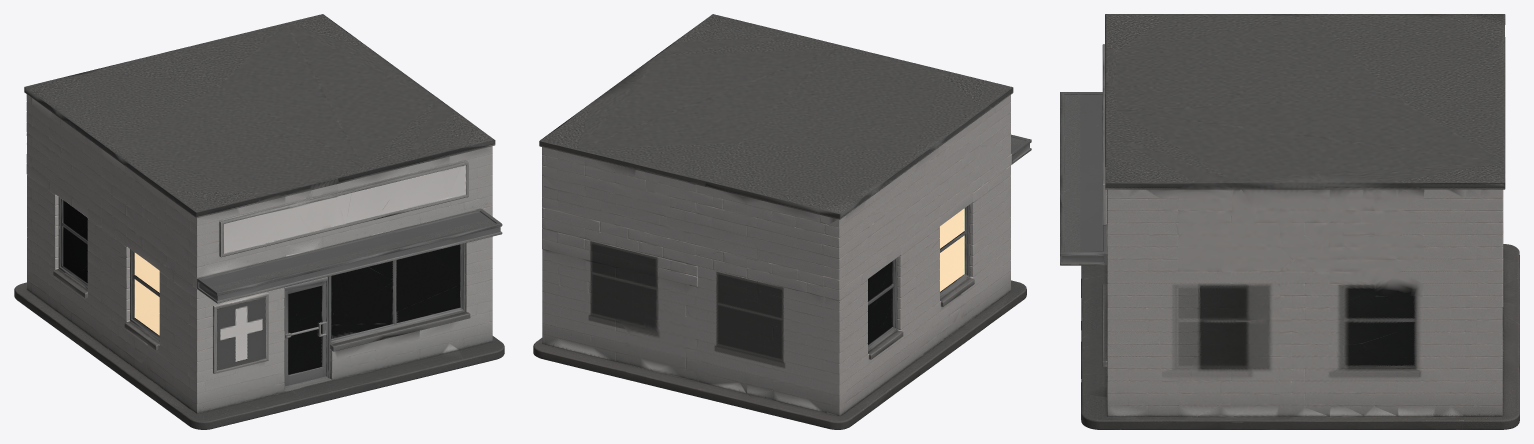
The model's file is civic-clinic.glb.
3 views of the same model, side by side, from view 1: azimuth 30°, elevation 25°; view 2: azimuth 150°, elevation 25°; view 3: azimuth 270°, elevation 25° (orthographic). The views are drawn at different scales.
Bounding box in the file's own units: 7.01 × 4.5 × 7.68.
Materials: 3 (3 with a texture image).
